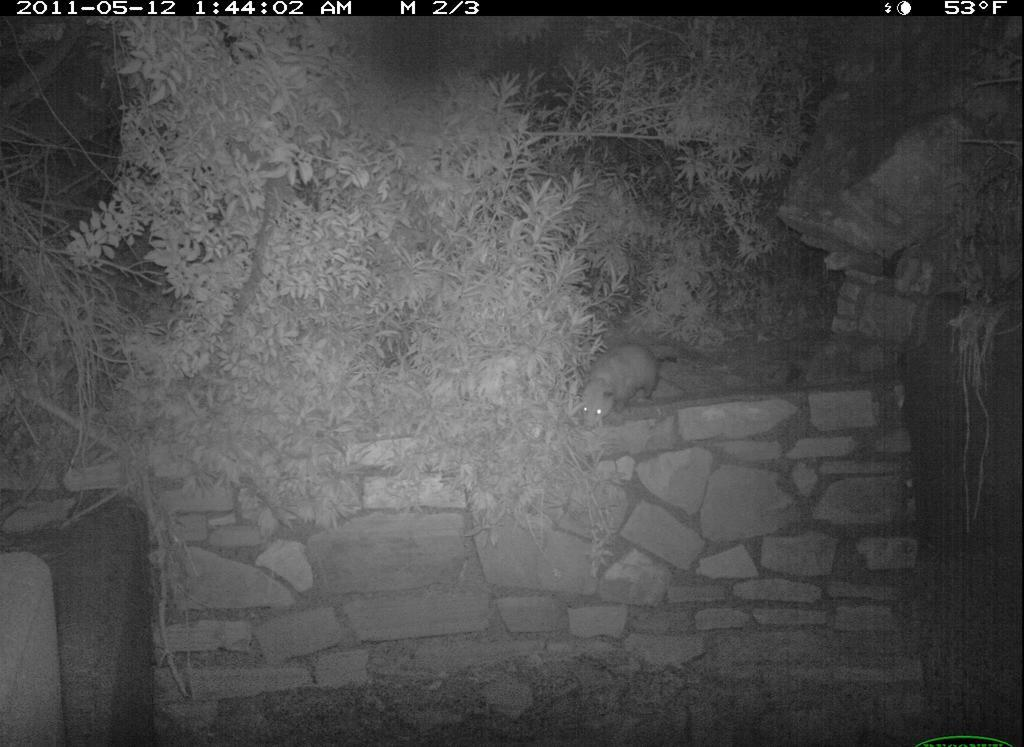opossum: (561, 331, 705, 431)
